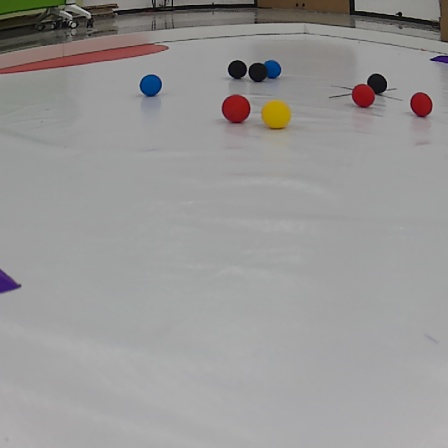black: (226, 56, 250, 82), (248, 62, 267, 85), (369, 72, 387, 95)
blue: (140, 71, 165, 99), (264, 59, 286, 79)
red: (221, 94, 250, 124), (410, 86, 434, 119), (351, 84, 377, 108)
red_base: (3, 34, 169, 80)
yellow: (260, 99, 291, 129)
